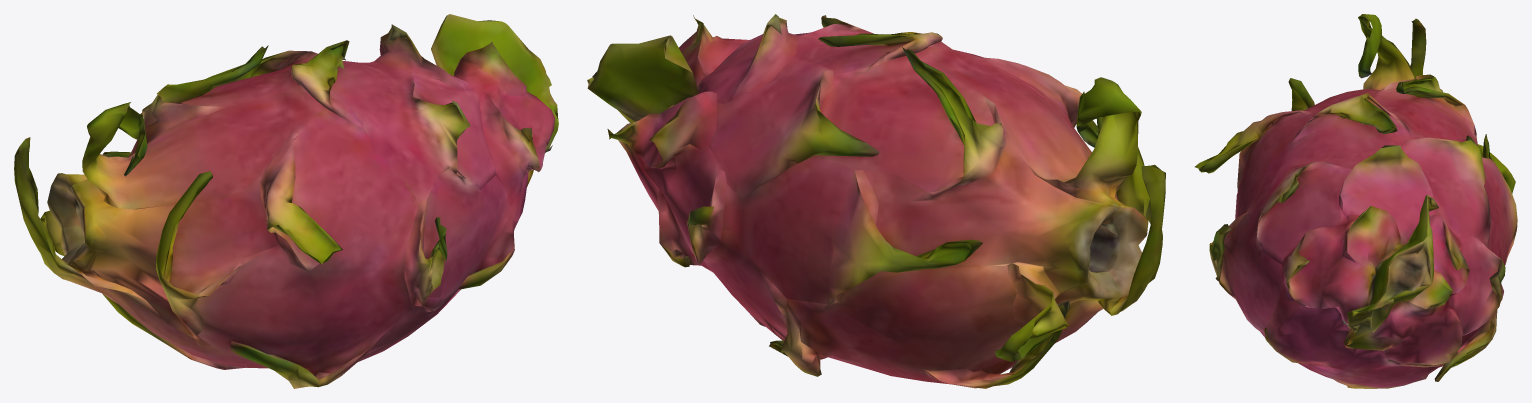
Rendered from food_produce_dragonfruit_a01.glb.
3 views of the same model, side by side, from view 1: azimuth 30°, elevation 25°; view 2: azimuth 150°, elevation 25°; view 3: azimuth 270°, elevation 25° (orthographic). The views are drawn at different scales.
Visible parts, largest first — view 1: part0; view 2: part0; view 3: part0.
Part boxes in pixels (<box>): part0: <box>14,14,558,388</box>; part0: <box>587,14,1165,388</box>; part0: <box>1195,14,1517,388</box>.
Size of the model in its own units: 0.1417 by 0.0784 by 0.0835.
Materials: 1 (1 with a texture image).
